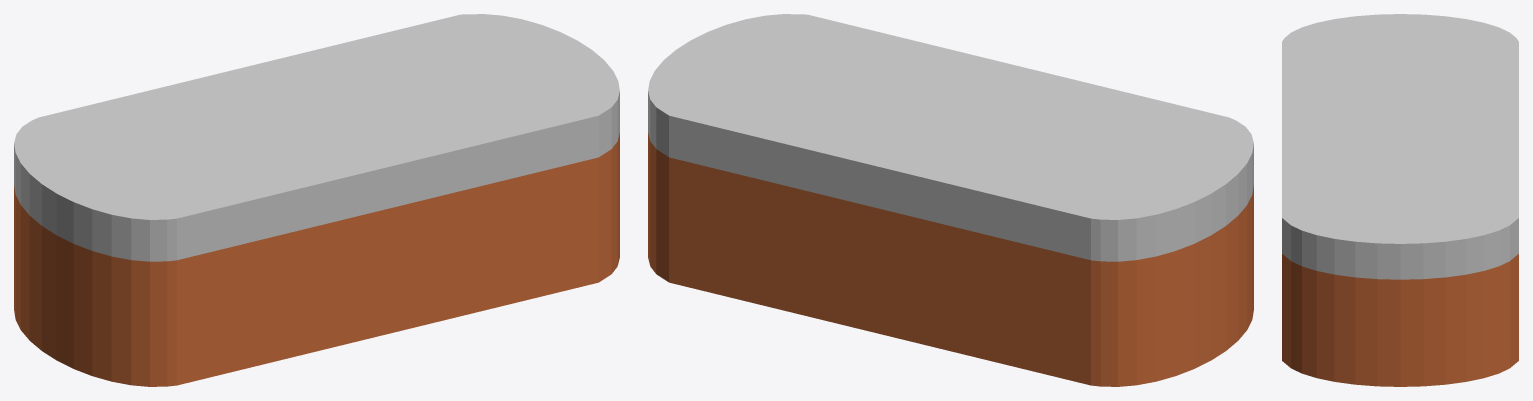
The model's file is Esponja.fbx.
The picture shows the model from 3 angles, left to right: view 1: azimuth 30°, elevation 25°; view 2: azimuth 150°, elevation 25°; view 3: azimuth 270°, elevation 25°; orthographic projection. The views are drawn at different scales.
Visible parts, largest first — view 1: Cube; view 2: Cube; view 3: Cube.
Boxes of the visible parts, x1,y1,x2,y2 form: Cube: [14, 14, 619, 386]; Cube: [648, 14, 1253, 386]; Cube: [1282, 14, 1518, 386].
Size of the model in its own units: 690 by 200 by 300.
